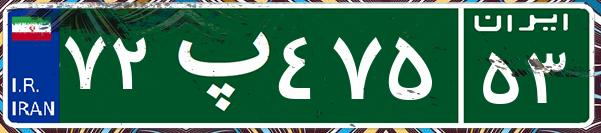2: (110, 28, 158, 105)
3: (525, 38, 570, 115)
4: (273, 28, 330, 110)
5: (385, 28, 445, 110), (475, 38, 525, 113)
7: (330, 28, 385, 110), (57, 26, 110, 107)
پ: (158, 15, 273, 115)
